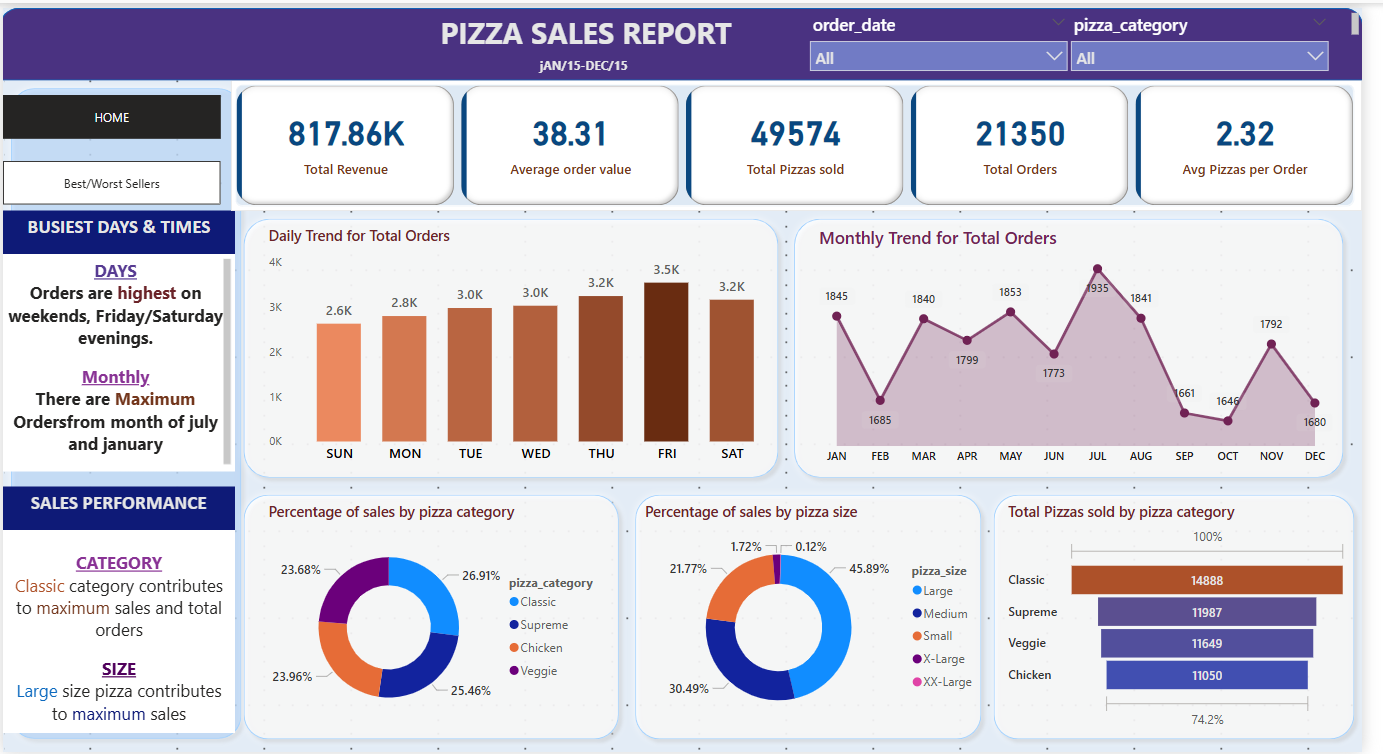

This screenshot's page, from the dashboard's own definition file:
{"tool":"powerbi","page":{"name":"HOME","canvas":[1500,820],"ordinal":0},"visuals":[{"type":"shape","box":[0,80,272,736],"z":0},{"type":"textbox","box":[0,224,256,48],"z":1000},{"type":"cardVisual","fields":{"Data":["pizza_sales.Total Revenue","pizza_sales.Average order value","pizza_sales.Total Pizzas sold","pizza_sales.Total Orders","pizza_sales.Avg Pizzas per Order"]},"box":[252,80,1248,144],"z":2000},{"type":"shape","box":[-4,0,1504,80],"z":3000},{"type":"textbox","box":[-4,0,1504,48],"z":4000},{"type":"textbox","box":[576,48,240,32],"z":5000},{"type":"shape","box":[256,224,608,304],"z":6000},{"type":"columnChart","title":"Daily Trend for Total Orders","fields":{"Category":["pizza_sales.Order Day"],"Y":["pizza_sales.Total Orders"]},"box":[288,240,576,272],"z":7000},{"type":"shape","box":[864,224,624,304],"z":8000},{"type":"areaChart","title":"Monthly Trend for Total Orders","fields":{"Category":["pizza_sales.Order Month"],"Y":["pizza_sales.Total Orders"]},"box":[896,240,576,272],"z":9000},{"type":"shape","box":[256,528,432,288],"z":10000},{"type":"shape","box":[1084,528,416,288],"z":11000},{"type":"shape","box":[688,528,400,288],"z":12000},{"type":"donutChart","title":"Percentage of sales by pizza category","fields":{"Category":["pizza_sales.pizza_category"],"Y":["pizza_sales.Total Revenue"]},"box":[288,544,384,256],"z":13000},{"type":"donutChart","title":"Percentage of sales by pizza size","fields":{"Category":["pizza_sales.pizza_size"],"Y":["pizza_sales.Total Revenue"]},"box":[704,544,384,256],"z":14000},{"type":"funnel","title":"Total Pizzas sold by pizza category","fields":{"Y":["pizza_sales.Total Pizzas sold"],"Category":["pizza_sales.pizza_category"]},"box":[1104,544,384,256],"z":15000},{"type":"textbox","box":[0,272,256,240],"z":16000},{"type":"textbox","box":[0,528,256,48],"z":17000},{"type":"textbox","box":[0,576,256,224],"z":18000},{"type":"slicer","fields":{"Values":["pizza_sales.pizza_category"]},"box":[1168,0,304,80],"z":19000},{"type":"slicer","fields":{"Values":["pizza_sales.order_date"]},"box":[880,0,304,80],"z":20000},{"type":"pageNavigator","box":[0,96,240,48],"z":20001},{"type":"pageNavigator","box":[0,168,240,48],"z":20002}]}

Visuals, with their boxes in screenshot pixels (x1, y1, x2, y2), scaled from the page's 1500x820 canvas onto the 1383x754 screenshot:
shape: [0, 74, 251, 750]
textbox: [0, 206, 236, 250]
cardVisual - pizza_sales.Total Revenue x pizza_sales.Average order value: [232, 74, 1382, 206]
shape: [0, 0, 1382, 74]
textbox: [0, 0, 1382, 44]
textbox: [531, 44, 752, 74]
shape: [236, 206, 797, 486]
"Daily Trend for Total Orders" columnChart: [266, 221, 797, 471]
shape: [797, 206, 1372, 486]
"Monthly Trend for Total Orders" areaChart: [826, 221, 1357, 471]
shape: [236, 486, 634, 750]
shape: [999, 486, 1382, 750]
shape: [634, 486, 1003, 750]
"Percentage of sales by pizza category" donutChart: [266, 500, 620, 736]
"Percentage of sales by pizza size" donutChart: [649, 500, 1003, 736]
"Total Pizzas sold by pizza category" funnel: [1018, 500, 1372, 736]
textbox: [0, 250, 236, 471]
textbox: [0, 486, 236, 530]
textbox: [0, 530, 236, 736]
slicer - pizza_sales.pizza_category: [1077, 0, 1357, 74]
slicer - pizza_sales.order_date: [811, 0, 1092, 74]
pageNavigator: [0, 88, 221, 132]
pageNavigator: [0, 154, 221, 199]
